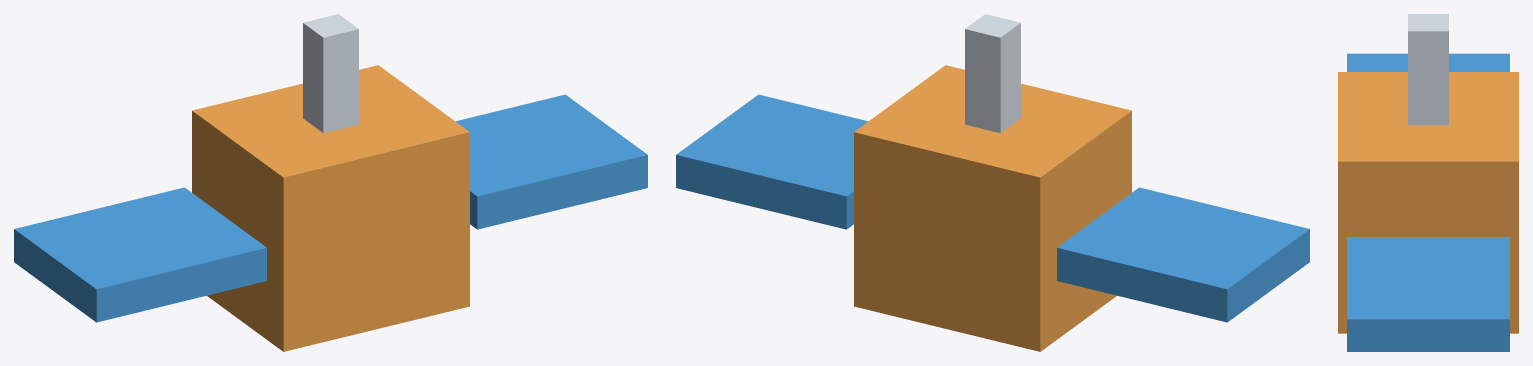
File: satellite.glb
3 renders of one model, left to right at view 1: azimuth 30°, elevation 25°; view 2: azimuth 150°, elevation 25°; view 3: azimuth 270°, elevation 25°, orthographic.
Parts seen in each view (by area): view 1: Corpo, Painel esquerdo, Painel direito, Antena; view 2: Corpo, Painel esquerdo, Painel direito, Antena; view 3: Corpo, Painel direito, Antena, Painel esquerdo.
Boxes of the visible parts, <box> form: Corpo: <box>192,65,469,351</box>; Painel esquerdo: <box>14,187,266,322</box>; Painel direito: <box>455,94,647,229</box>; Antena: <box>303,14,358,133</box>; Corpo: <box>854,65,1131,351</box>; Painel esquerdo: <box>1057,187,1309,322</box>; Painel direito: <box>676,94,868,229</box>; Antena: <box>965,14,1020,133</box>; Corpo: <box>1338,72,1518,333</box>; Painel direito: <box>1347,237,1509,351</box>; Antena: <box>1408,14,1448,125</box>; Painel esquerdo: <box>1347,53,1509,71</box>.
Bounding box in the file's own units: 2.78 × 1.3 × 0.8.
